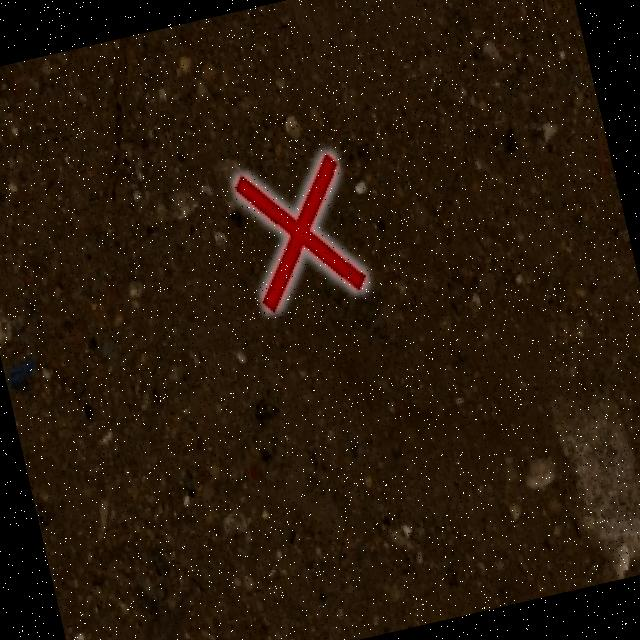x_marker: (232, 151, 366, 310)
